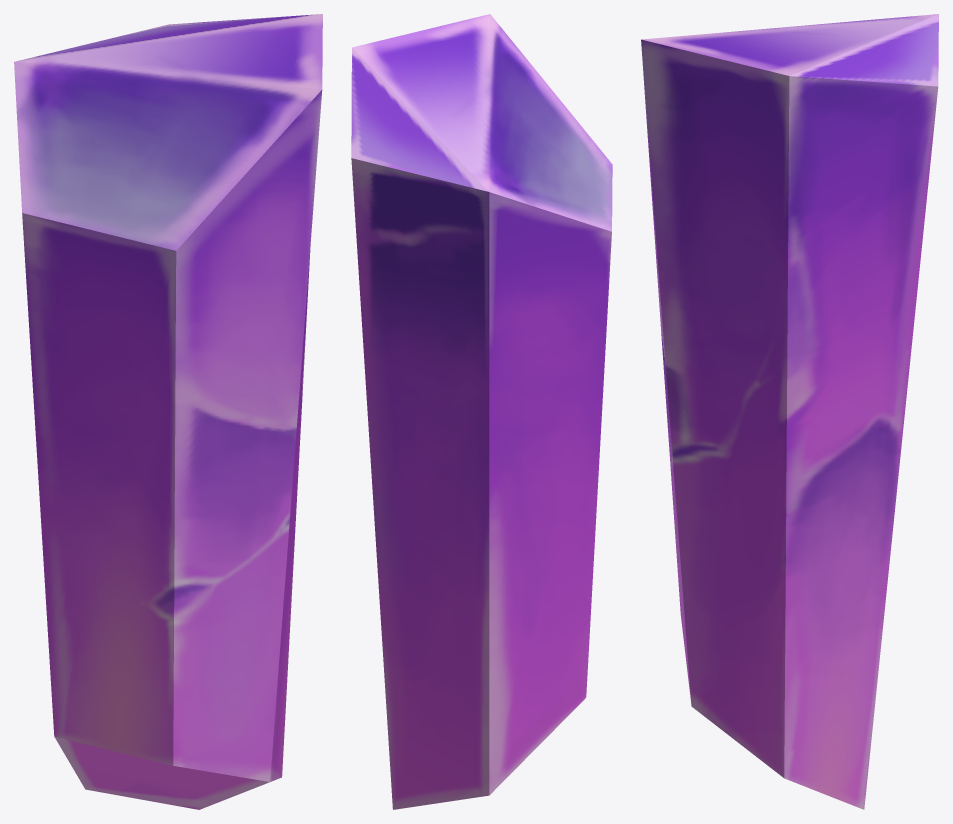
Rendered from Gem05.fbx.
3 renders of one model, left to right at view 1: azimuth 30°, elevation 25°; view 2: azimuth 150°, elevation 25°; view 3: azimuth 270°, elevation 25°, orthographic. The views are drawn at different scales.
Visible parts, largest first — view 1: Gem05; view 2: Gem05; view 3: Gem05.
Part boxes in pixels (x1,y1,x2,y2): Gem05: (14,14,322,809); Gem05: (351,14,612,809); Gem05: (641,14,938,809).
Bounding box in the file's own units: 9.24 × 23.99 × 8.37.
